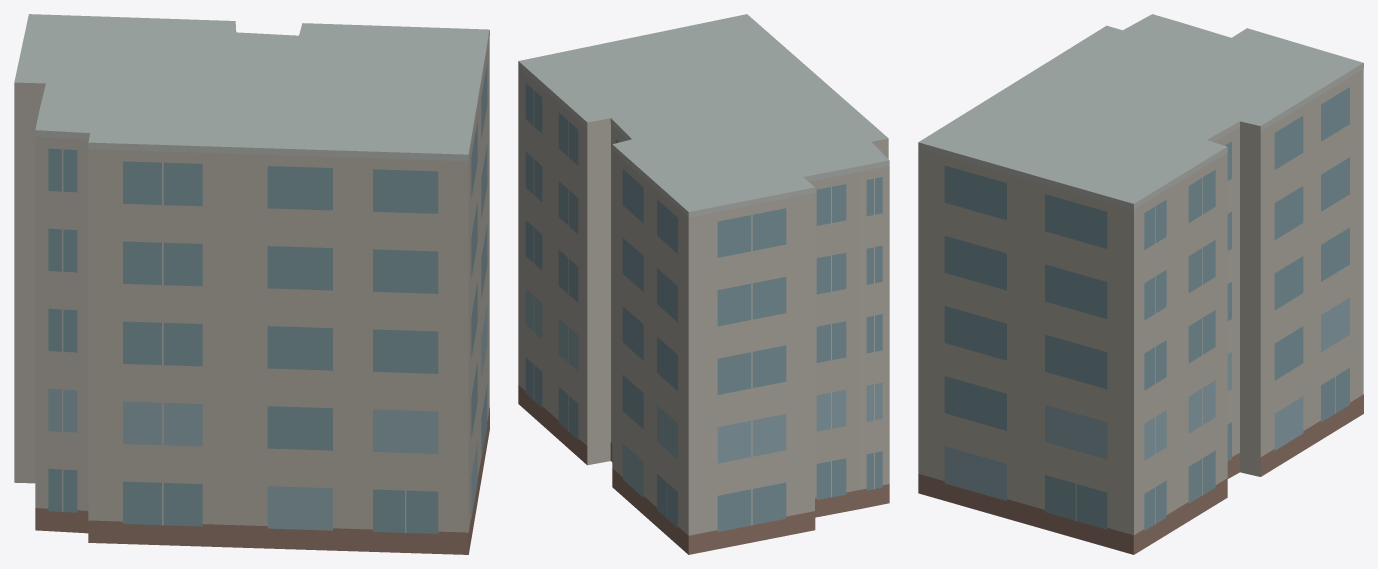
The model's file is survey-upis-32621455.glb.
3 views of the same model, side by side, from view 1: azimuth 30°, elevation 25°; view 2: azimuth 150°, elevation 25°; view 3: azimuth 270°, elevation 25° (orthographic). The views are drawn at different scales.
Parts seen in each view (by area): view 1: survey-upis-32621455.tmp; view 2: survey-upis-32621455.tmp; view 3: survey-upis-32621455.tmp.
Boxes of the visible parts, box(x1,y1,x2,y2) form: survey-upis-32621455.tmp: box(14, 14, 489, 554); survey-upis-32621455.tmp: box(518, 14, 889, 554); survey-upis-32621455.tmp: box(918, 14, 1363, 554).
Bounding box in the file's own units: 17.3 × 14.9 × 17.15.
